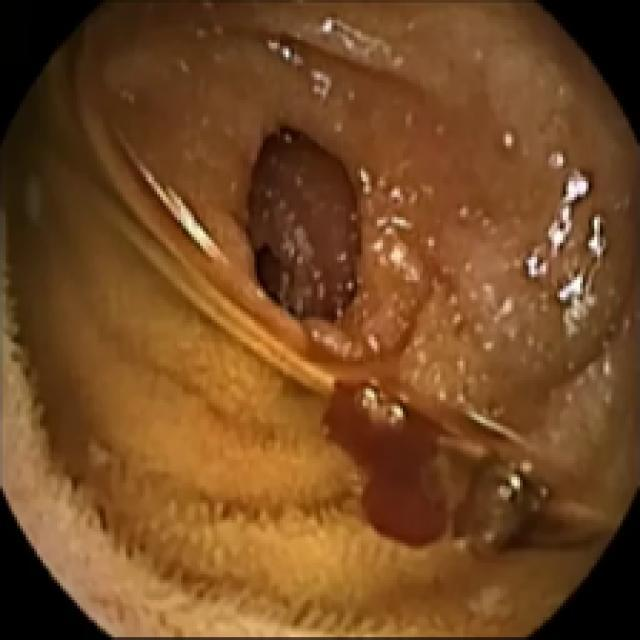bleeding: (318, 341, 458, 556)
